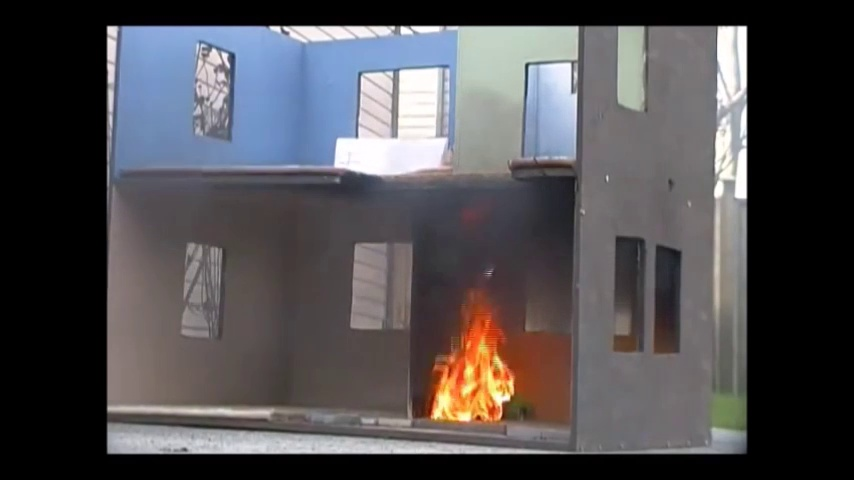fire: (434, 316, 510, 423)
